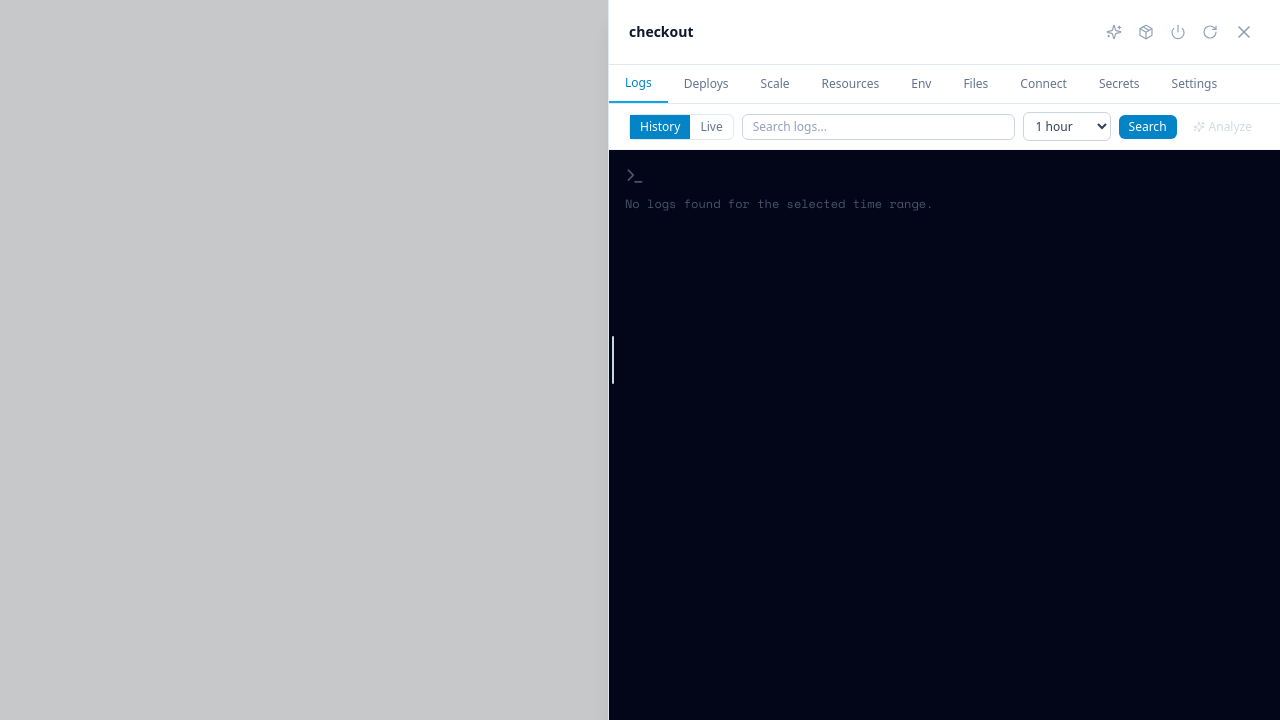
Test case: AppDetail discarded build › says why a build produced no deploy
Click the tab "Deploys". click: [706, 84]
box: [668,65,745,103]
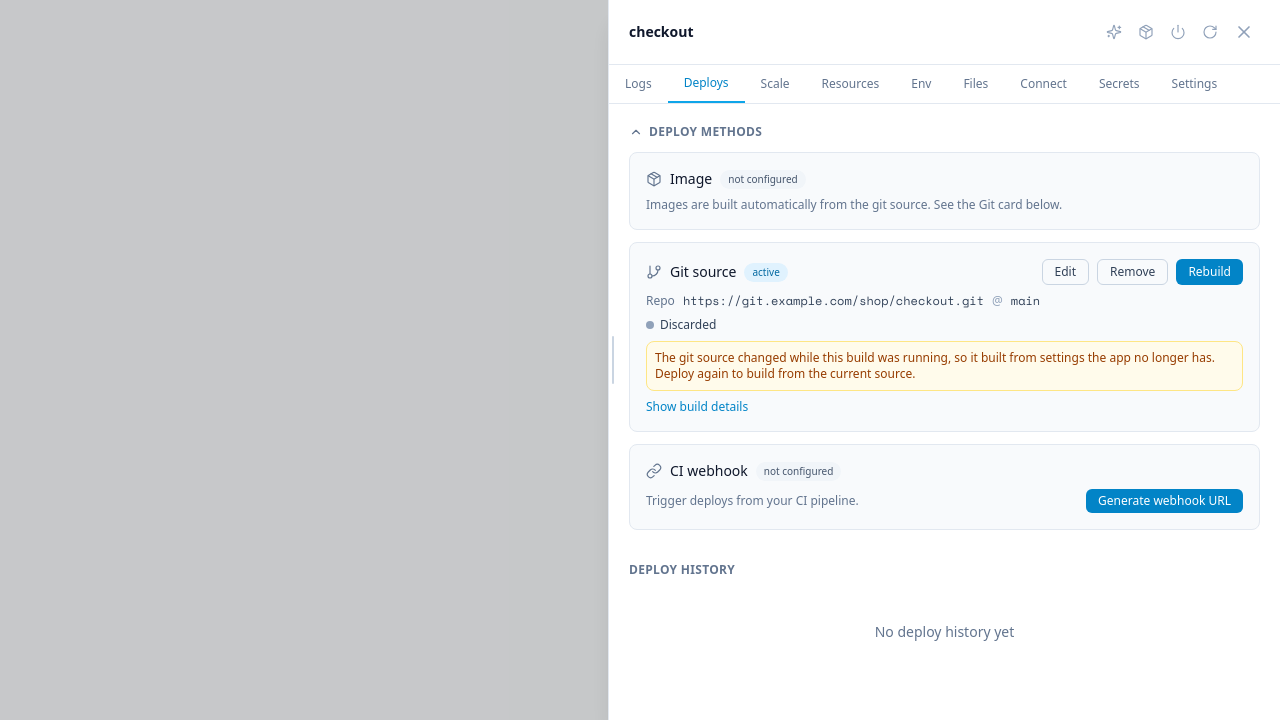
Check: the text "Discarded" is shown, box [660,317,716,333]
Check: the text "The git source changed while this build was running" is shown, box [655,349,1215,382]
